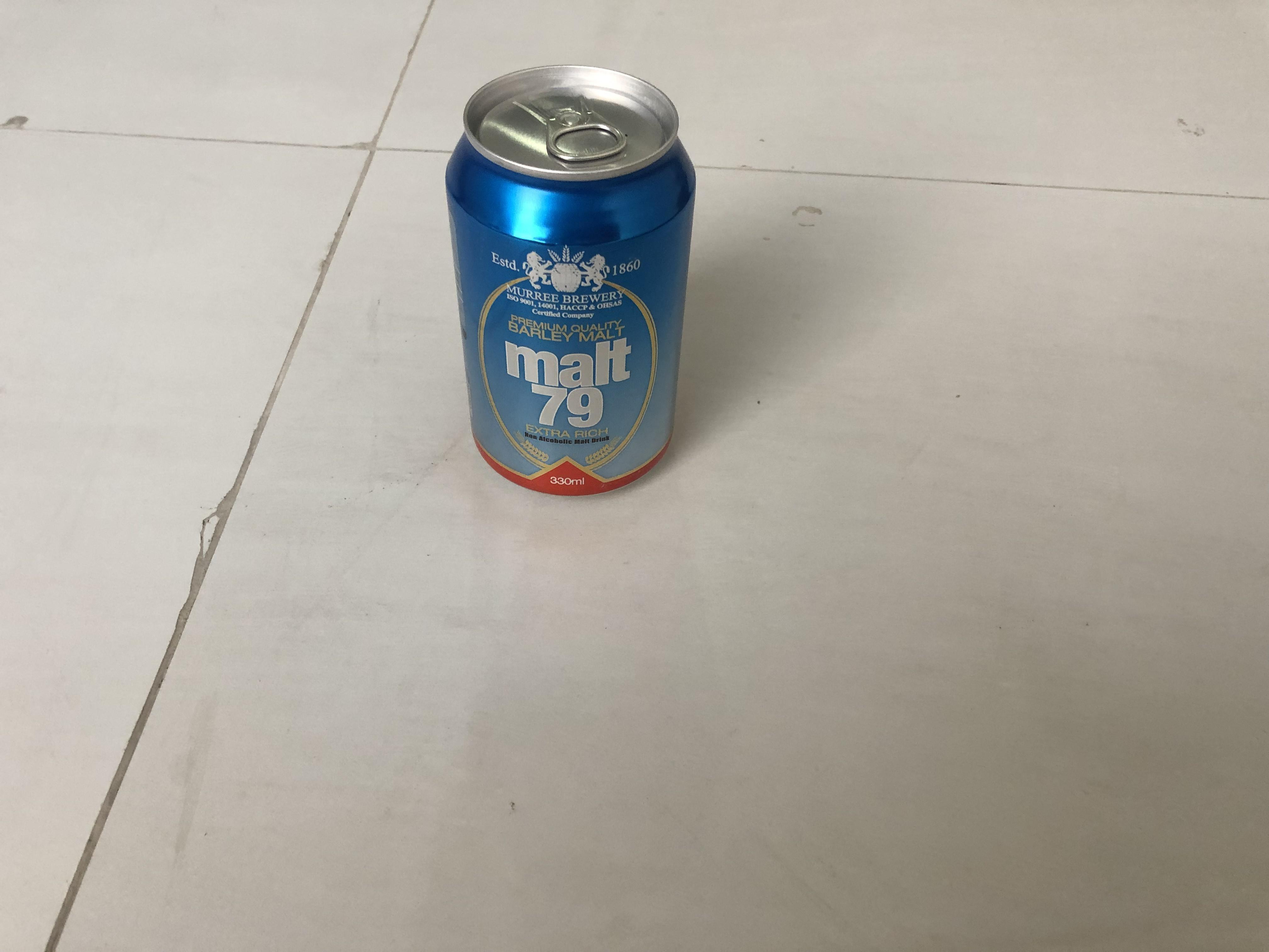tin can: (448, 62, 702, 501)
